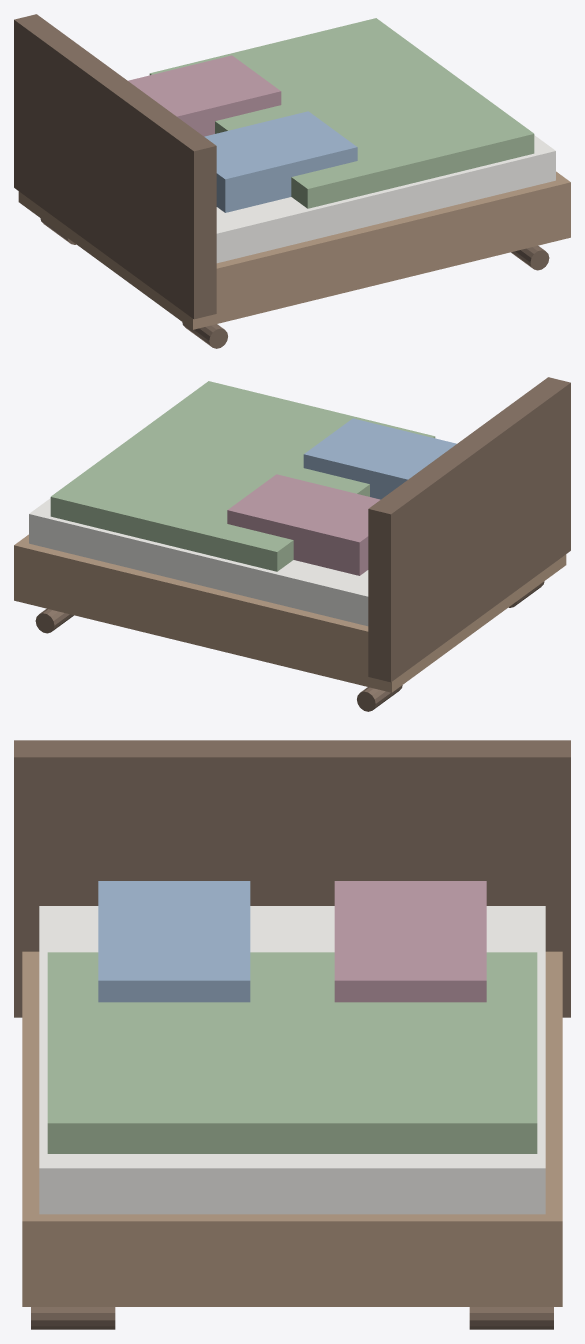
Rendered from bed_double.glb.
The picture shows the model from 3 angles, top to bottom: view 1: azimuth 30°, elevation 25°; view 2: azimuth 150°, elevation 25°; view 3: azimuth 270°, elevation 25°; orthographic projection. The views are drawn at different scales.
Visible parts, largest first — view 1: p002, p005, p000, p001, p003, p004, p006, p007; view 2: p002, p005, p000, p001, p004, p003, p008, p009; view 3: p002, p005, p000, p001, p003, p004, p007, p009.
Boxes of the visible parts, x1=… form: p002: x1=14, y1=14, x2=216, y2=319; p005: x1=149, y1=18, x2=534, y2=208; p000: x1=18, y1=171, x2=570, y2=329; p001: x1=216, y1=135, x2=555, y2=263; p003: x1=204, y1=111, x2=357, y2=212; p004: x1=128, y1=55, x2=281, y2=136; p006: x1=182, y1=322, x2=227, y2=348; p007: x1=511, y1=245, x2=549, y2=270; p002: x1=368, y1=377, x2=570, y2=682; p005: x1=50, y1=381, x2=435, y2=571; p000: x1=14, y1=534, x2=566, y2=692; p001: x1=29, y1=498, x2=368, y2=626; p004: x1=227, y1=474, x2=380, y2=575; p003: x1=303, y1=418, x2=456, y2=499; p008: x1=357, y1=685, x2=402, y2=711; p009: x1=35, y1=608, x2=73, y2=633; p002: x1=14, y1=740, x2=570, y2=1017; p005: x1=47, y1=952, x2=537, y2=1153; p000: x1=22, y1=951, x2=562, y2=1306; p001: x1=39, y1=906, x2=545, y2=1214; p003: x1=98, y1=881, x2=250, y2=1002; p004: x1=334, y1=881, x2=486, y2=1002; p007: x1=31, y1=1307, x2=115, y2=1329; p009: x1=469, y1=1307, x2=553, y2=1329.
Bounding box in the file's own units: 2.01 × 1.05 × 1.65.
